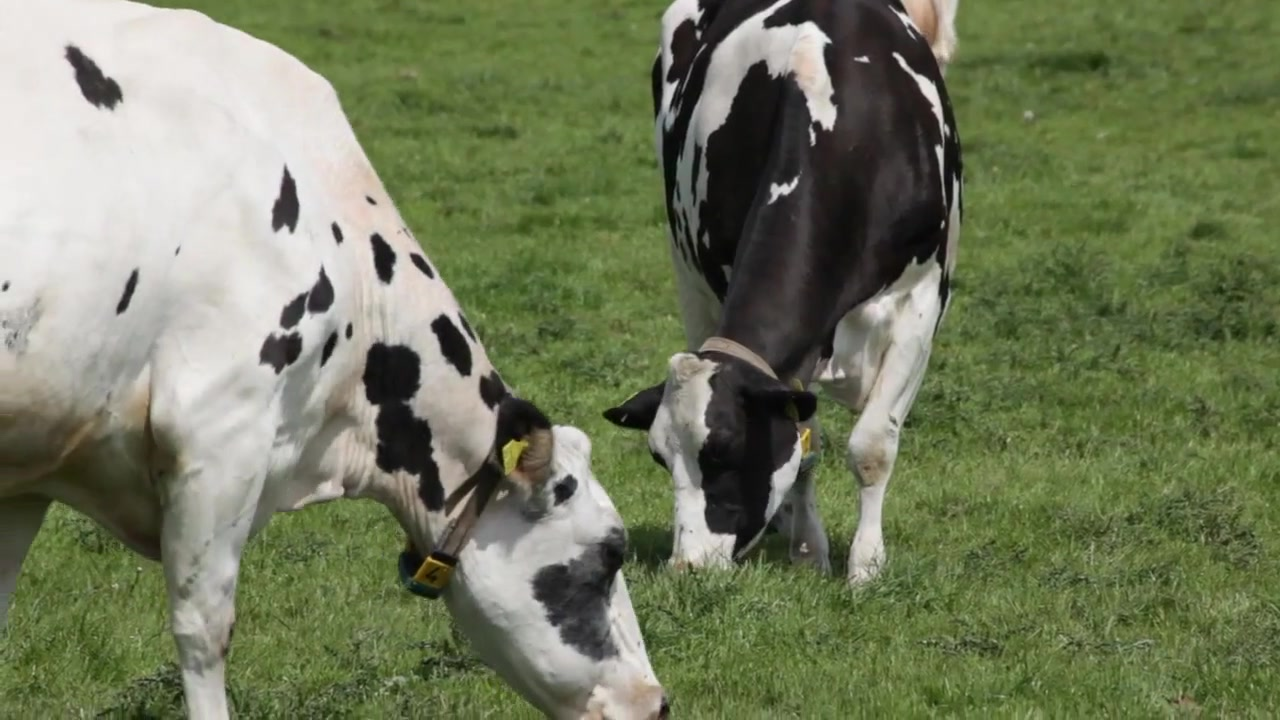cow: (603, 1, 969, 599)
